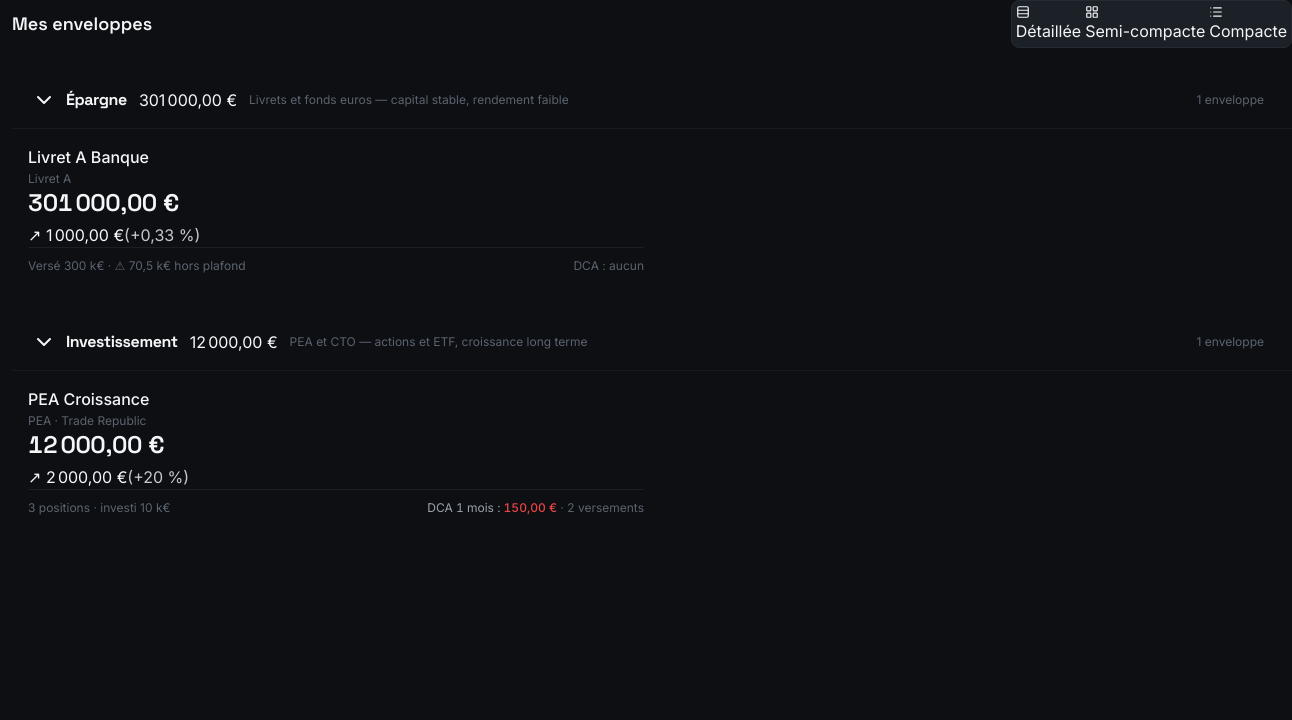
it: EnvelopeListPanel › affiche la plus grande position et le nombre d'autres en vue détaillée
What coordinates should you click on to do the following:
click the button titled "Détaillée"
I would click on:
 (1048, 24)
Its box is [1016,5,1081,43].
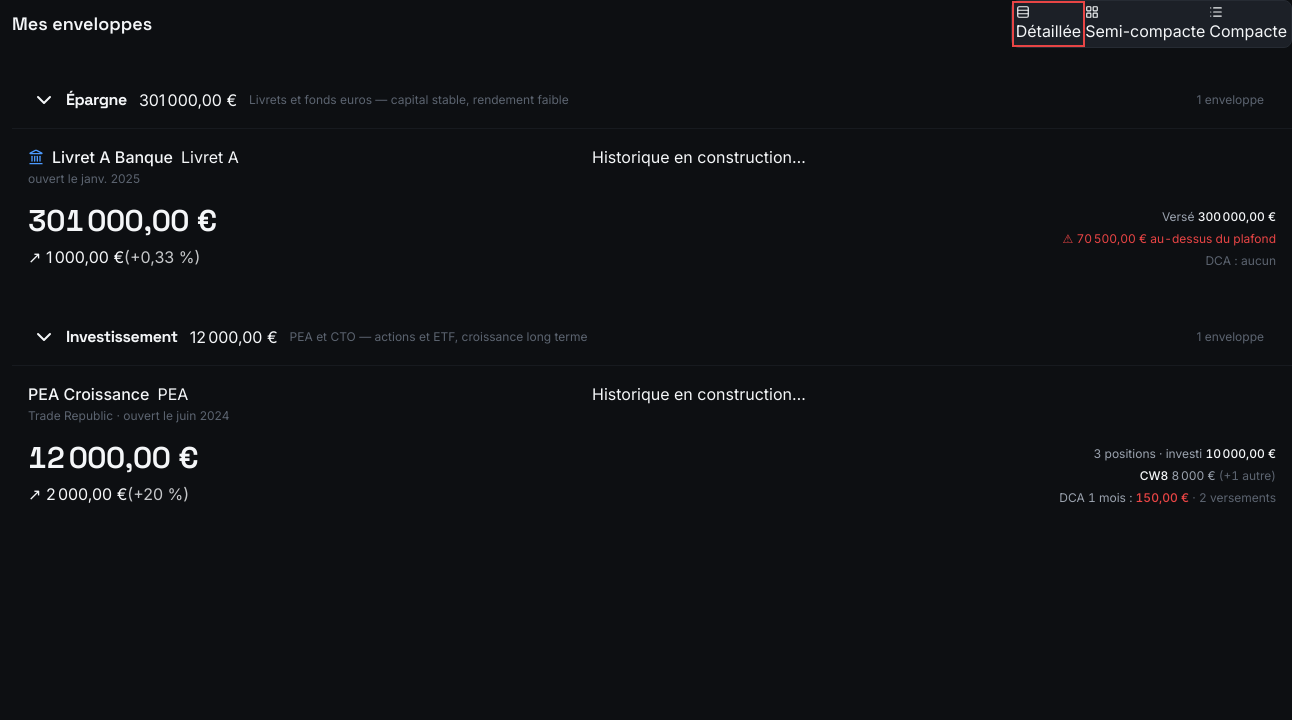
Expected: the text "CW8" is shown, [1140,468,1168,483]
Expected: the text "(+1 autre)" is shown, [1216,468,1276,483]
